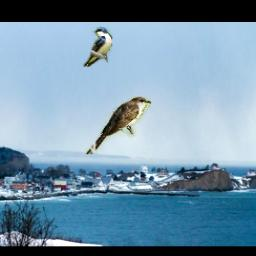Cuckoo: (86, 96, 152, 154)
Swallow: (83, 26, 112, 67)
